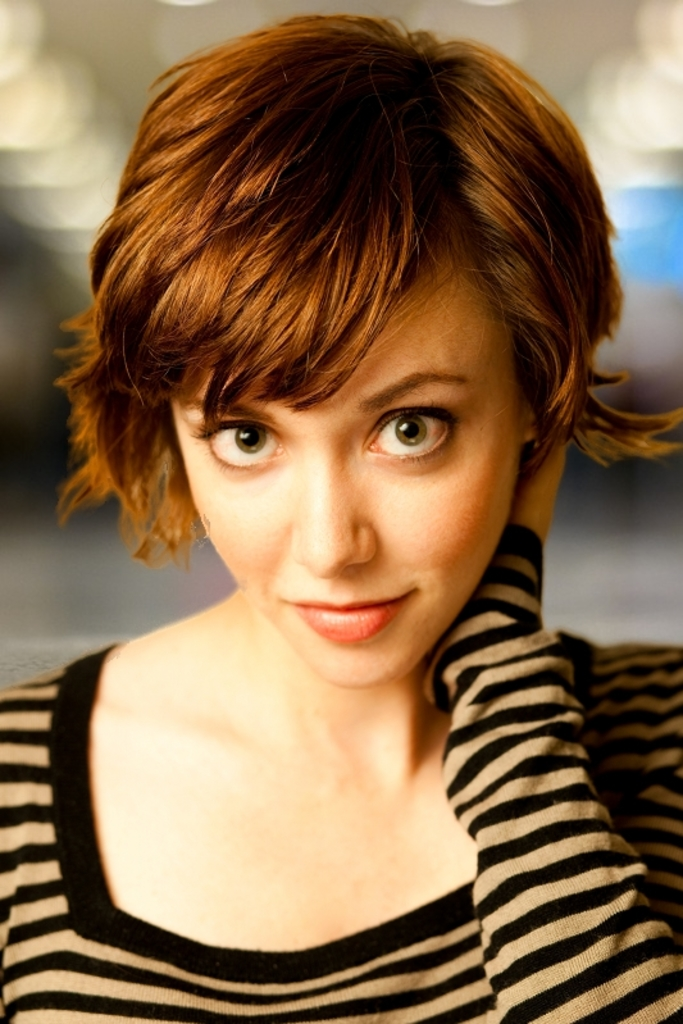face: (192, 149, 487, 725)
